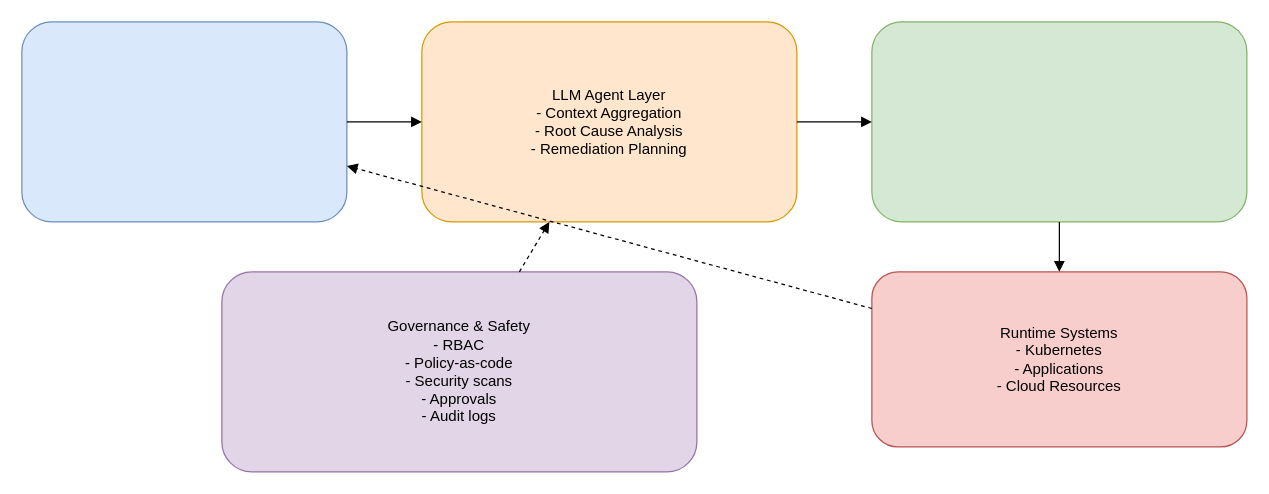
The diagram is 1269 pixels wide and 494 high, and some of its shapes have lost their labels. The centre of each missing label's shape, as x and y in pixels:
GitOps Control - Git Repo (PRs) - CI Validation - Argo CD / Flux: point (1059, 121)
Observability Layer - Prometheus - Loki/ELK - Traces - Cloud Alerts: point (184, 121)
